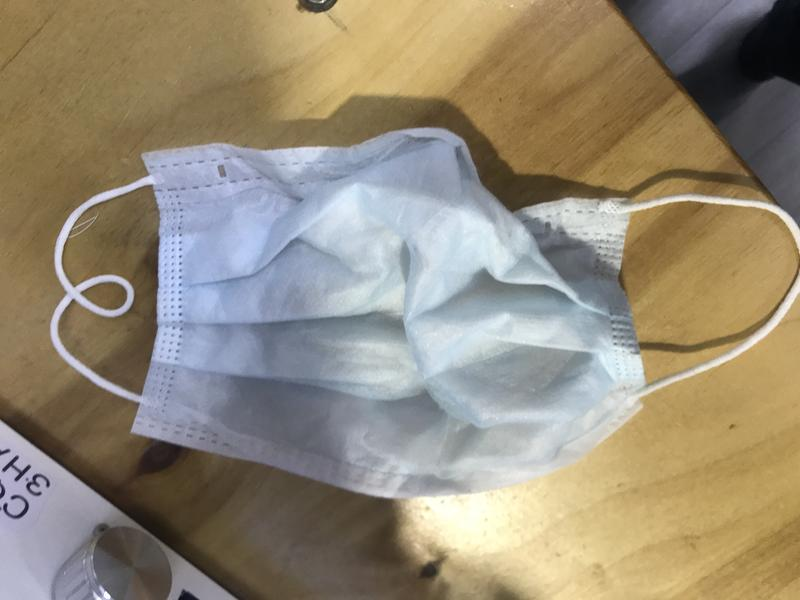medical_mask: (51, 127, 800, 496)
